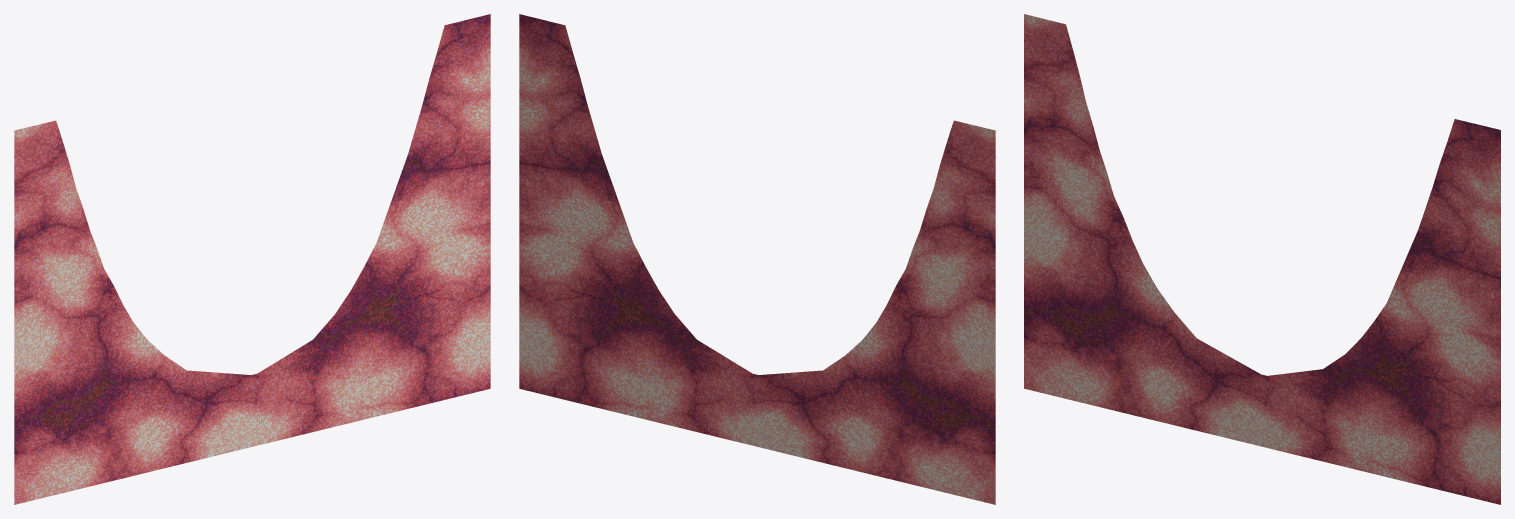
File: Pit.fbx
3 renders of one model, left to right at view 1: azimuth 30°, elevation 25°; view 2: azimuth 150°, elevation 25°; view 3: azimuth 330°, elevation 25°, orthographic.
Parts seen in each view (by area): view 1: Plane.001; view 2: Plane.001; view 3: Plane.001.
Boxes of the visible parts, <box> form: Plane.001: <box>14,14,490,504</box>; Plane.001: <box>519,14,995,504</box>; Plane.001: <box>1024,14,1500,504</box>.
Bounding box in the file's own units: 859 × 646 × 7.73e-05.
Materials: 1 (1 with a texture image).
